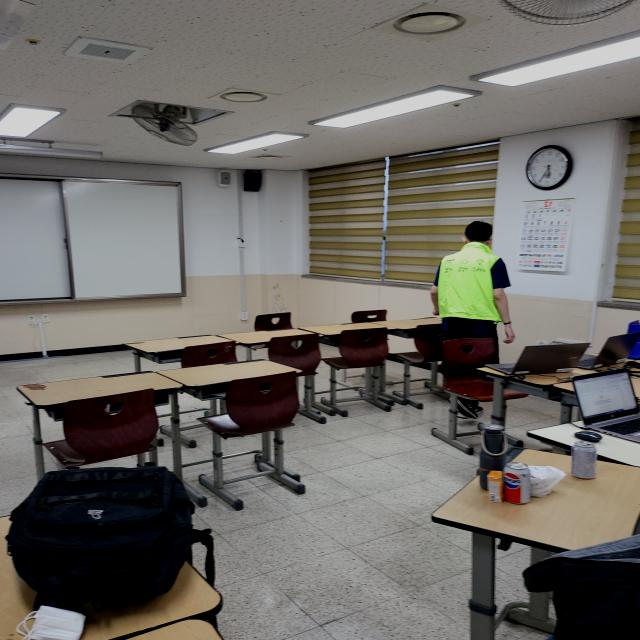weston_spy: (426, 235, 511, 332)
